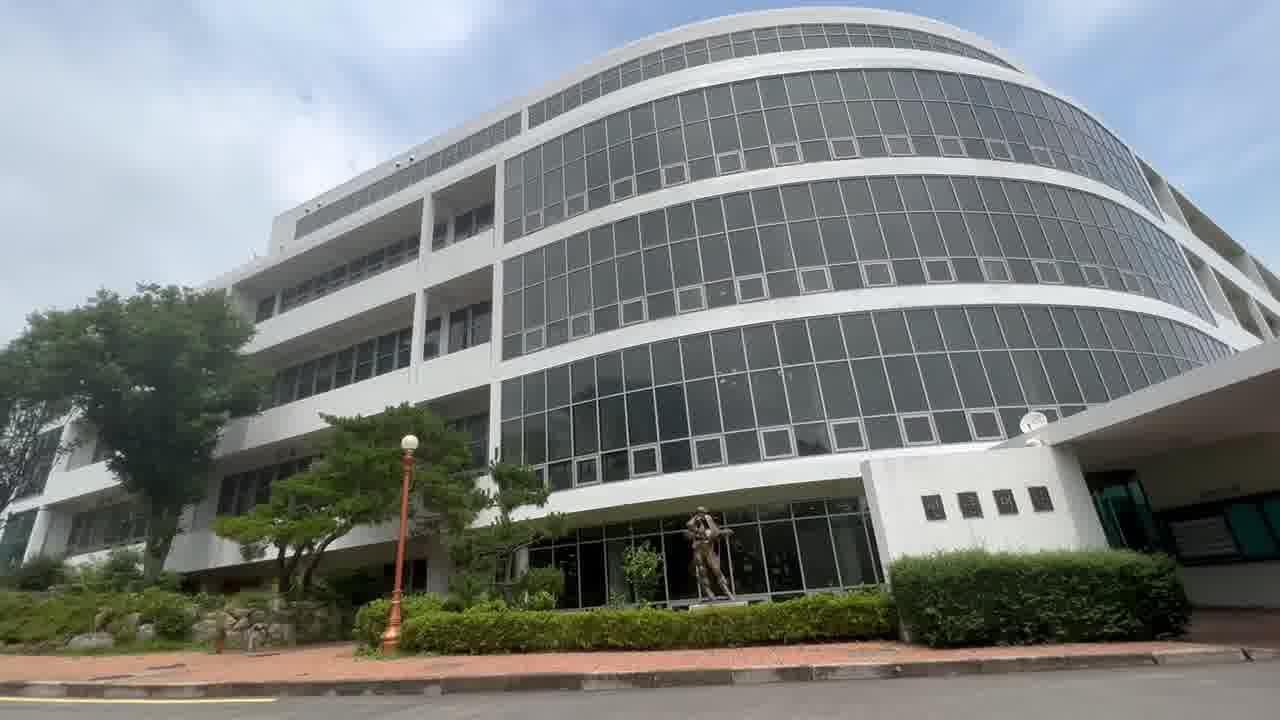building: (458, 27, 1108, 519)
